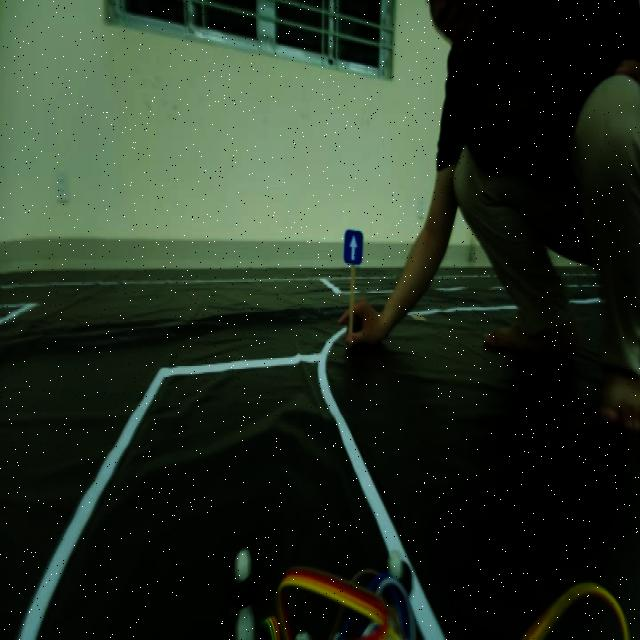onewayroad: (342, 226, 366, 268)
